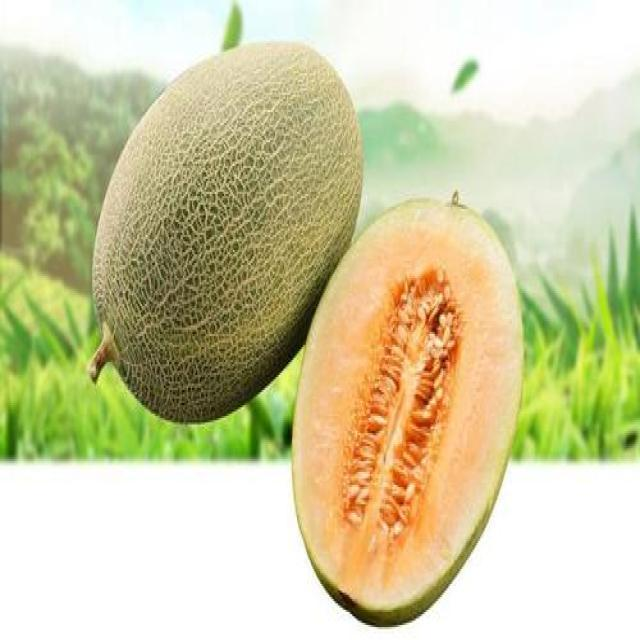Hami Melon: (93, 39, 365, 424), (289, 202, 523, 624)
